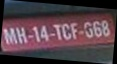character: (2, 27, 17, 44), (60, 22, 73, 40), (14, 26, 27, 43), (91, 20, 103, 38), (51, 23, 63, 40), (83, 20, 94, 38), (99, 19, 110, 37), (39, 24, 49, 42), (69, 21, 79, 39), (31, 25, 40, 42)
